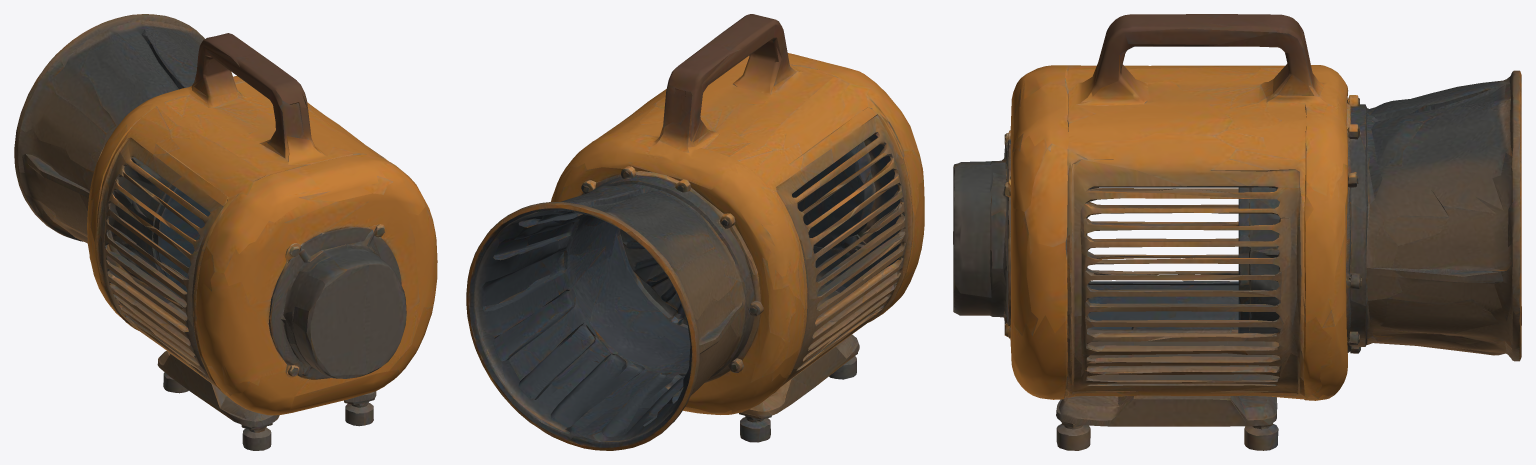
The model's file is pop-vacuum.glb.
The picture shows the model from 3 angles, left to right: view 1: azimuth 30°, elevation 25°; view 2: azimuth 150°, elevation 25°; view 3: azimuth 270°, elevation 25°; orthographic projection. The views are drawn at different scales.
Visible parts, largest first — view 1: pop-vacuum; view 2: pop-vacuum; view 3: pop-vacuum.
Boxes of the visible parts, bbox=[...] form: pop-vacuum: bbox=[14, 14, 437, 450]; pop-vacuum: bbox=[466, 14, 924, 450]; pop-vacuum: bbox=[953, 14, 1521, 450].
Bounding box in the file's own units: 0.5907 × 0.8041 × 1.05.
Materials: 1 (1 with a texture image).
